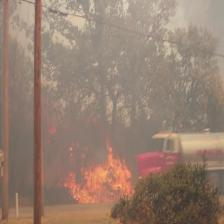fire: (42, 134, 158, 210)
